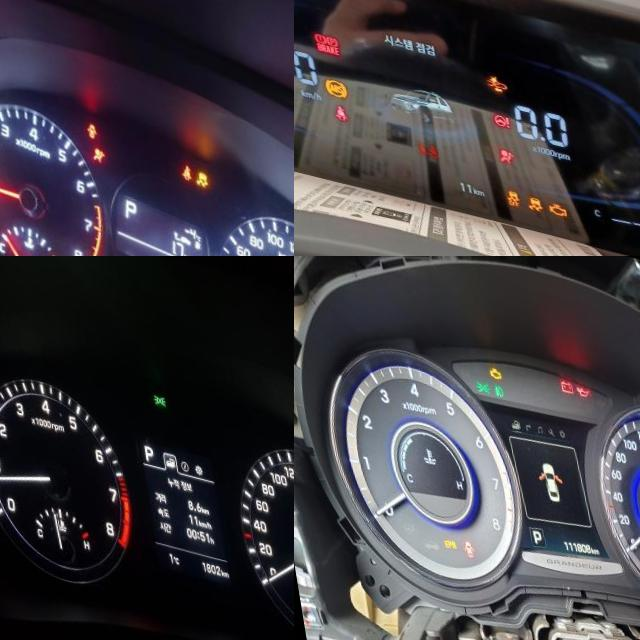Doors: (450, 529, 464, 550), (77, 106, 91, 126)
FrontFogLight: (487, 372, 498, 386)
SideLamp: (469, 368, 484, 383), (143, 377, 157, 390)
